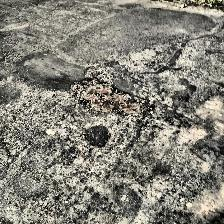pothole: (69, 76, 149, 120)
